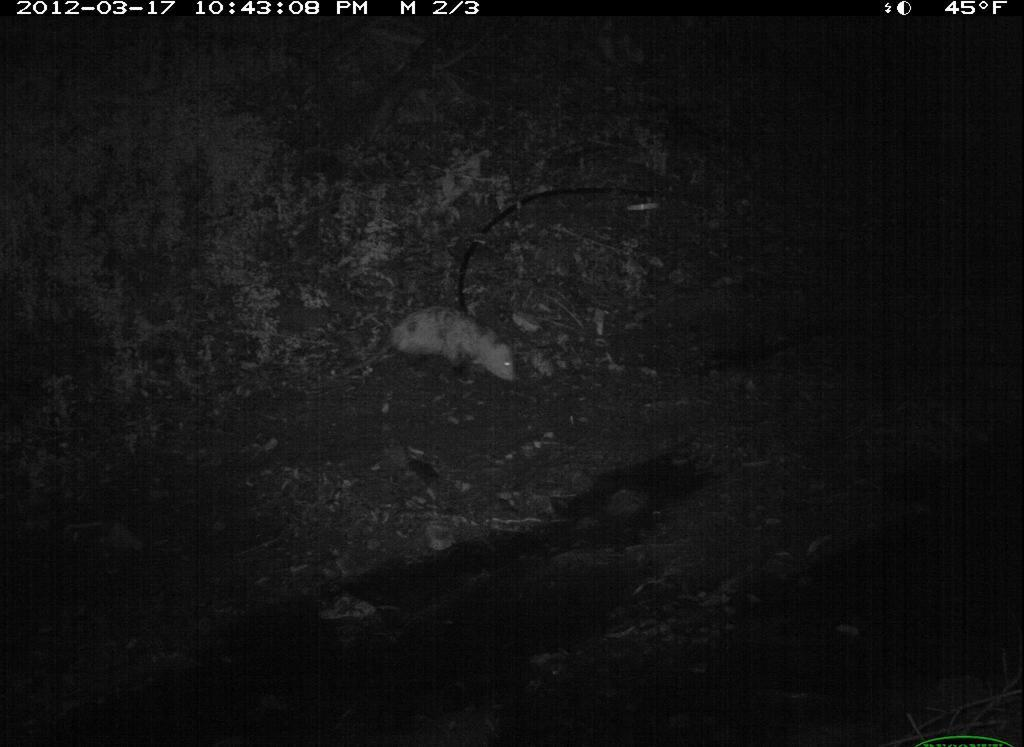opossum: (345, 283, 538, 405)
